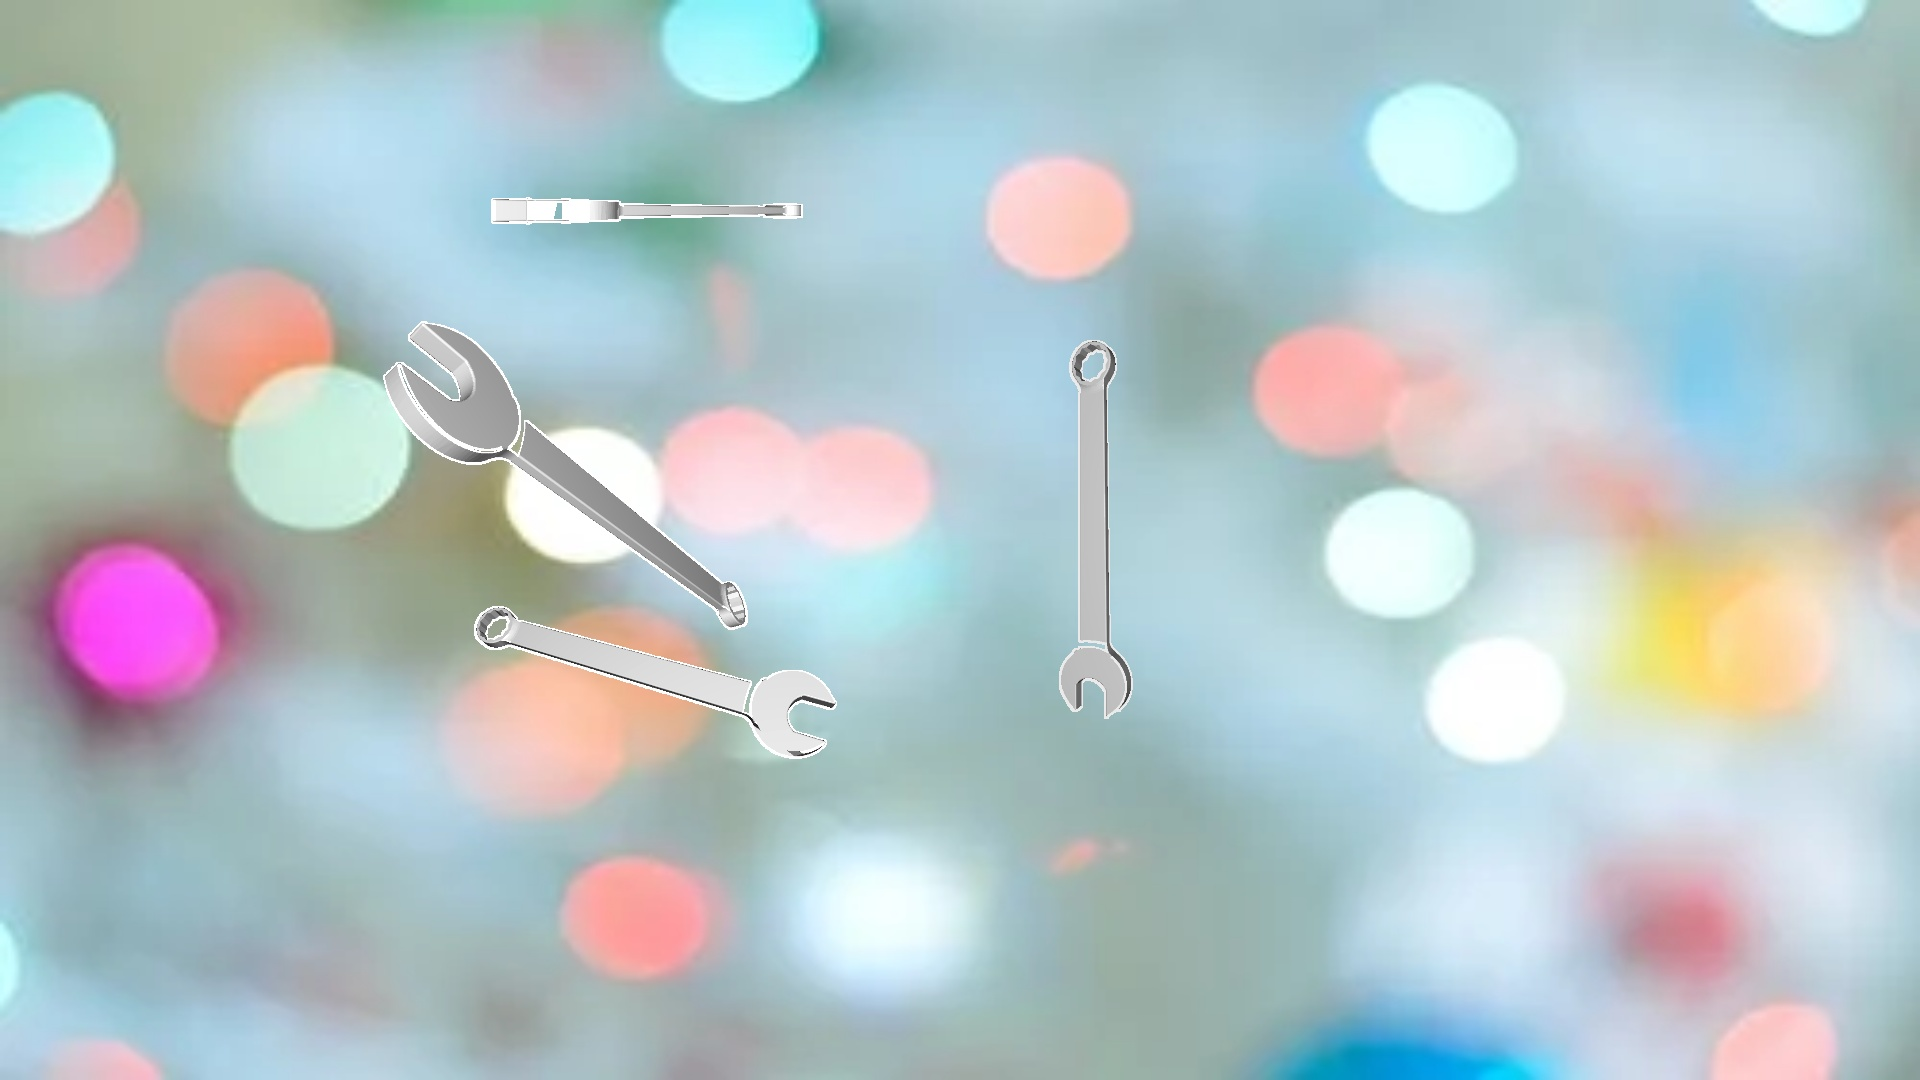Mixed Key: (382, 320, 746, 629), (473, 607, 836, 758), (1059, 340, 1131, 717), (491, 196, 802, 224)
